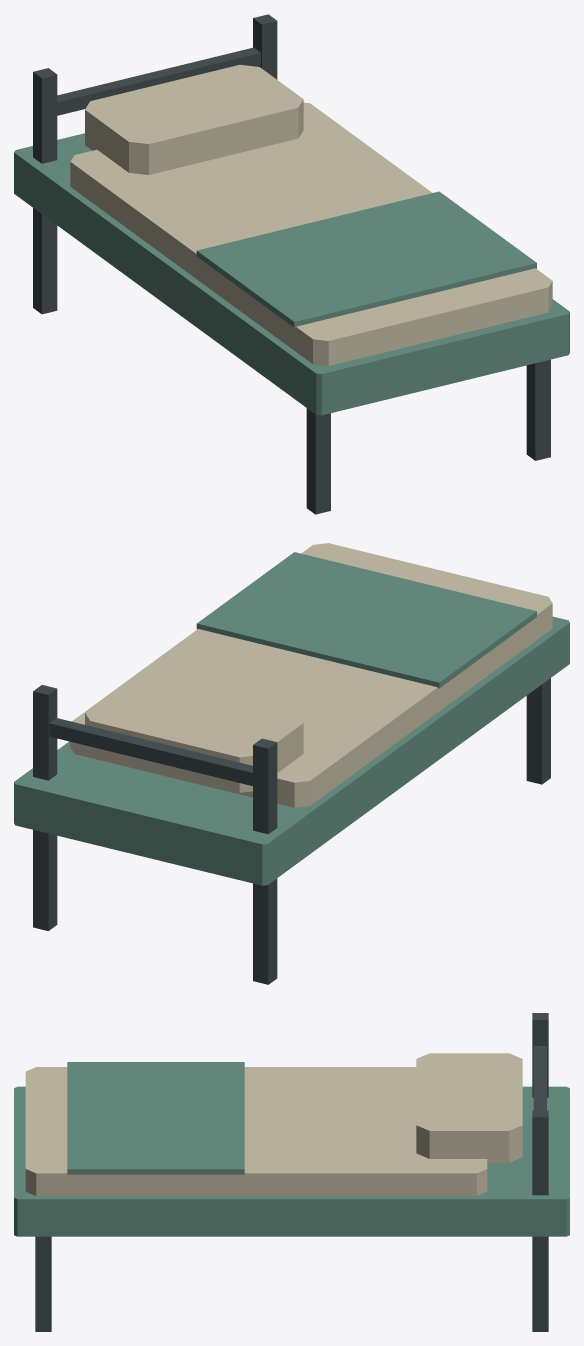
File: bed_clinic.glb
3 views of the same model, one above another, from view 1: azimuth 30°, elevation 25°; view 2: azimuth 150°, elevation 25°; view 3: azimuth 270°, elevation 25° (orthographic). The views are drawn at different scales.
Visible parts, largest first — view 1: geometry; view 2: geometry; view 3: geometry.
Boxes of the visible parts, left/top/right/bottom form: geometry: left=14, top=14, right=569, bottom=514; geometry: left=14, top=543, right=569, bottom=984; geometry: left=14, top=1013, right=569, bottom=1331.
Size of the model in its own units: 0.9 by 0.8 by 1.88.
